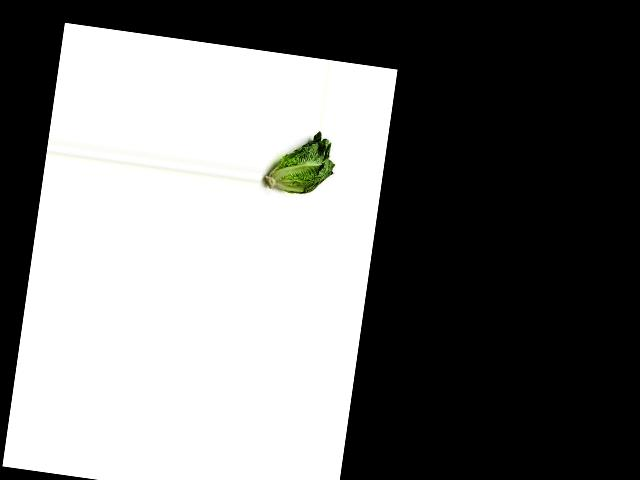lettuce: (264, 125, 341, 201)
